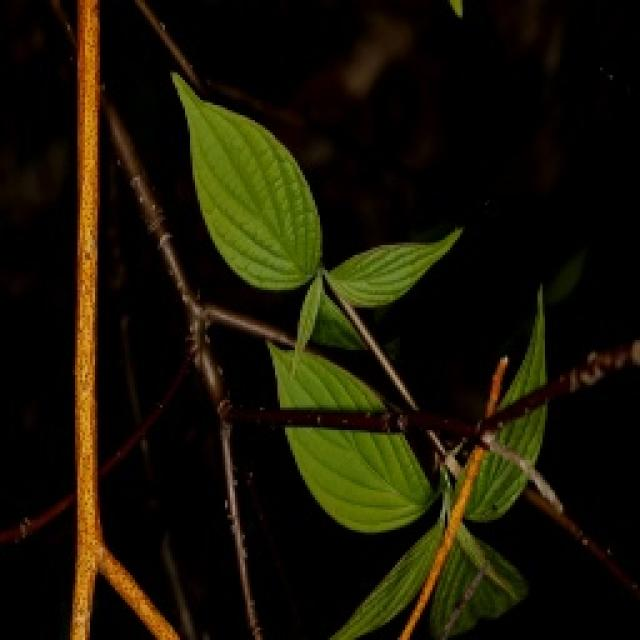Golden_canker: (35, 12, 177, 640), (399, 313, 529, 640)
